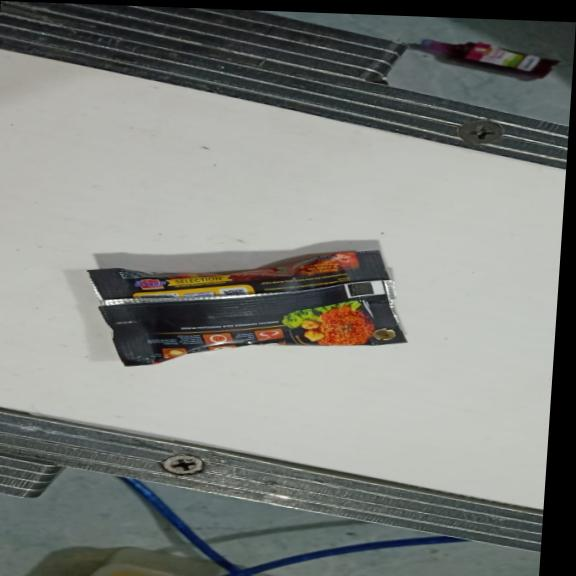Plastik: (78, 238, 416, 378), (422, 33, 561, 81)
